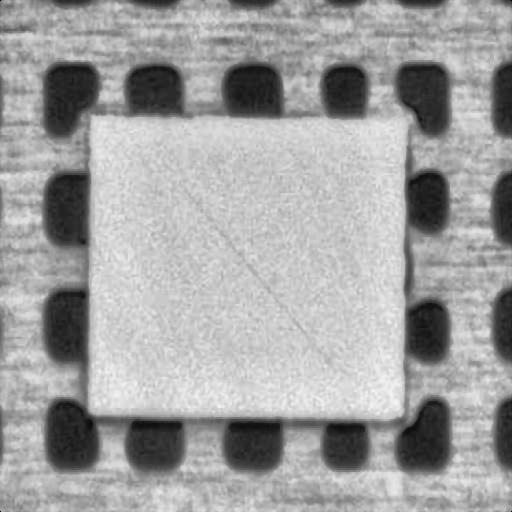DIE_CRACK: (244, 142, 443, 278)
